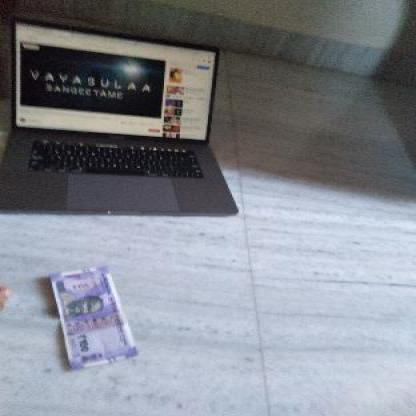New100Front: (50, 264, 150, 369)
